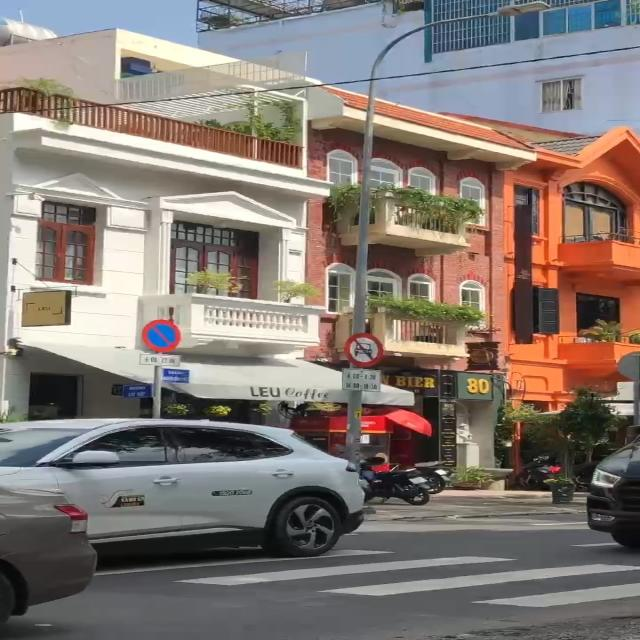Bien bao cam do xe: (142, 316, 184, 353)
Bien bao cam xe oto: (342, 330, 388, 367)
